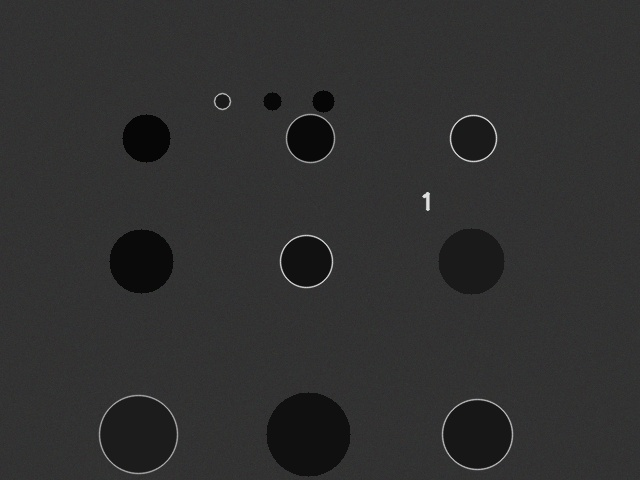hole: (266, 392, 350, 476), (99, 395, 177, 473), (442, 399, 512, 469), (438, 228, 504, 294), (109, 229, 173, 293), (280, 235, 332, 287), (122, 114, 170, 162), (286, 114, 334, 162), (450, 115, 496, 161), (312, 90, 334, 112), (263, 92, 281, 110), (214, 93, 230, 109)
